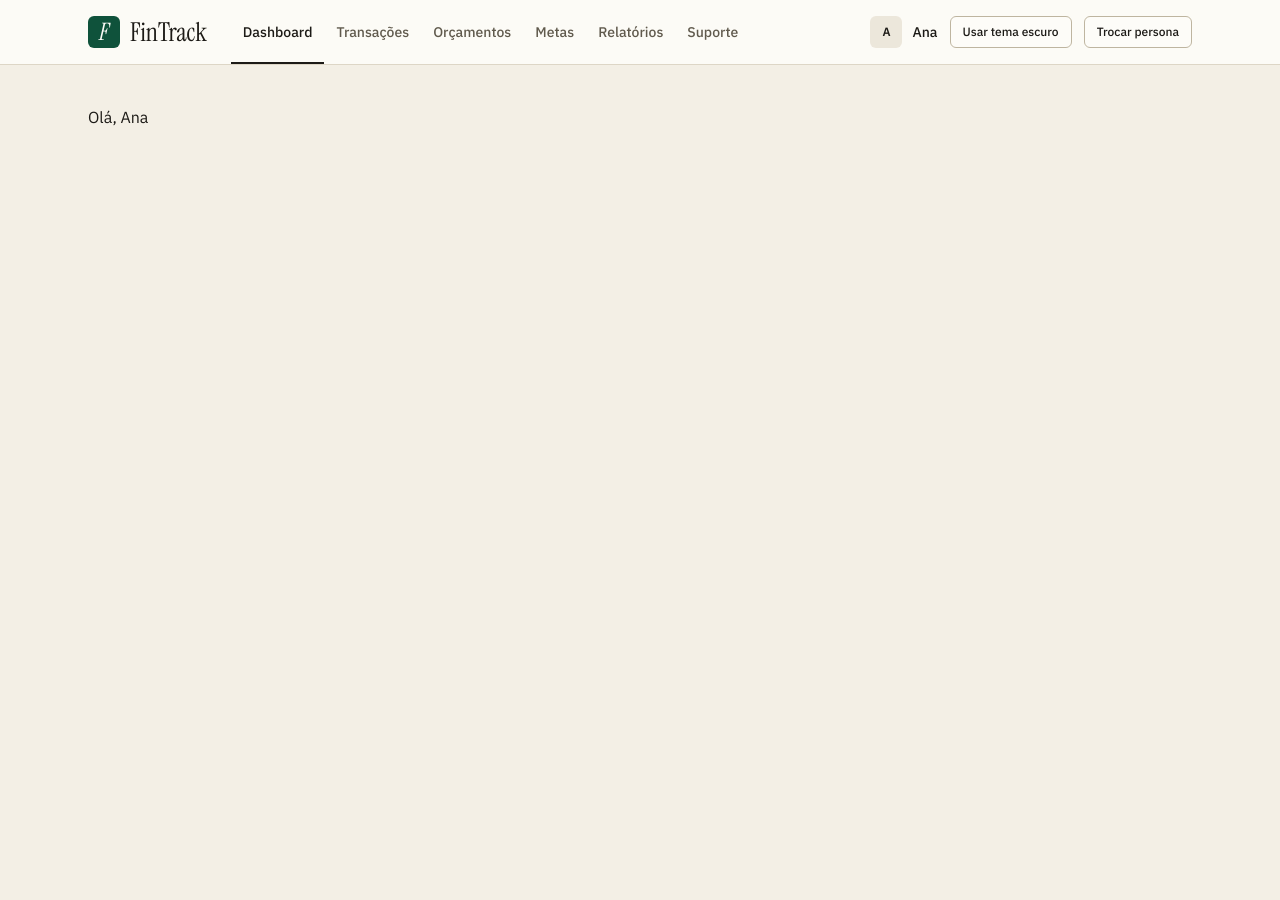
Scenario: tema por persona › alterna para escuro e troca o rótulo para a ação oposta
This screenshot has width=1280, height=900.
Click the button "Usar tema escuro".
click(1011, 32)  # box [950,16,1072,48]
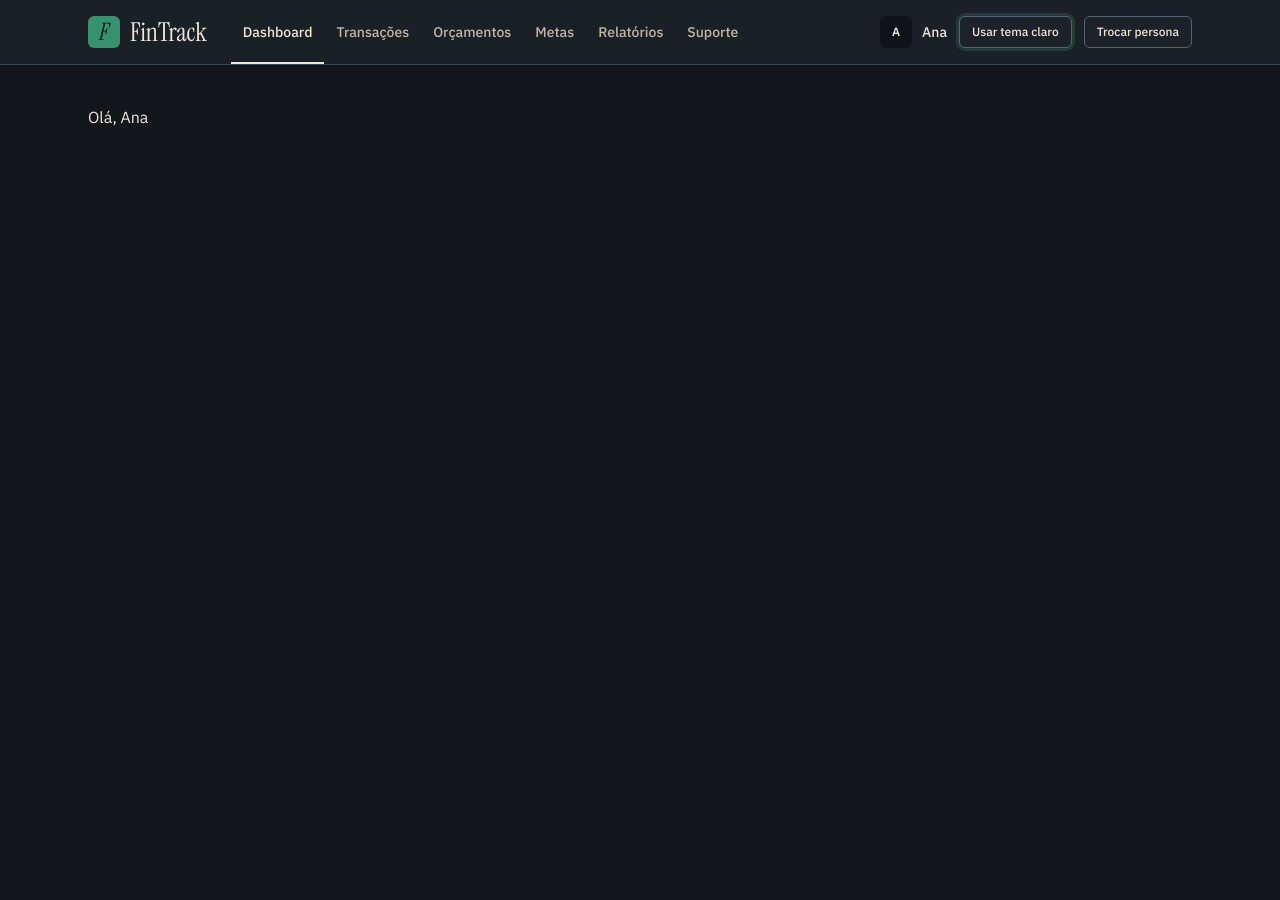
expect the button "Usar tema claro" is shown: met, box [959,16,1072,48]
